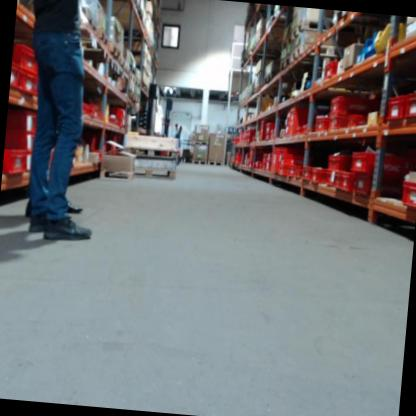pallet: (290, 40, 339, 70), (292, 19, 331, 43), (122, 147, 178, 161), (131, 166, 178, 181), (99, 169, 137, 181), (108, 41, 123, 61), (96, 30, 111, 47), (281, 33, 294, 52), (263, 71, 276, 86), (280, 55, 290, 71), (128, 72, 137, 83), (209, 160, 225, 166), (133, 79, 142, 88), (193, 162, 208, 167), (194, 142, 209, 146)
small_load_carrier: (348, 146, 409, 176), (356, 174, 398, 200), (329, 93, 371, 116), (13, 42, 43, 73), (3, 145, 30, 179), (287, 106, 313, 139), (8, 149, 38, 176), (6, 109, 39, 131), (272, 148, 291, 181), (9, 129, 36, 152), (388, 93, 408, 121), (327, 112, 350, 135), (16, 74, 39, 96), (322, 54, 337, 83), (400, 182, 416, 209), (403, 91, 416, 124), (11, 60, 24, 91), (340, 172, 355, 197), (347, 114, 366, 133), (326, 155, 346, 172), (311, 165, 328, 184), (315, 115, 330, 136), (325, 172, 342, 190), (303, 124, 320, 138), (290, 166, 303, 182), (283, 152, 300, 164), (279, 165, 293, 177), (78, 103, 90, 117), (304, 167, 313, 184), (113, 110, 127, 119), (294, 126, 305, 136), (265, 120, 272, 132), (267, 165, 274, 175), (119, 120, 126, 129), (265, 132, 271, 142), (267, 152, 273, 161)
